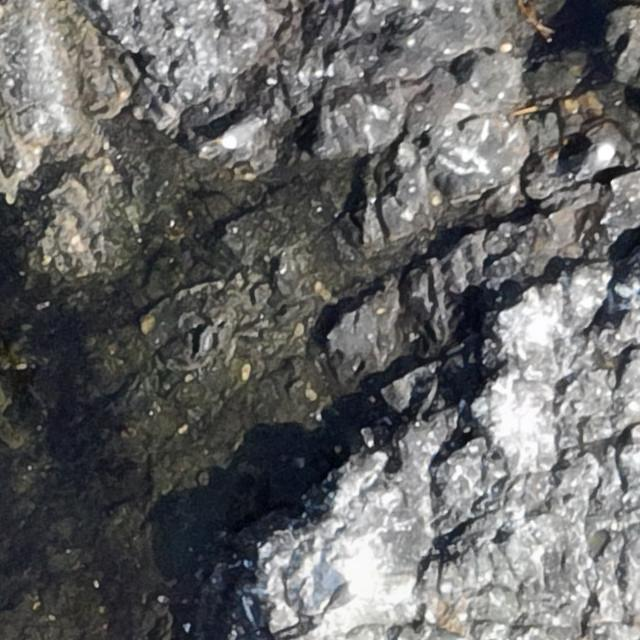umineko: (576, 143, 614, 180), (327, 578, 363, 614), (222, 125, 261, 148)
